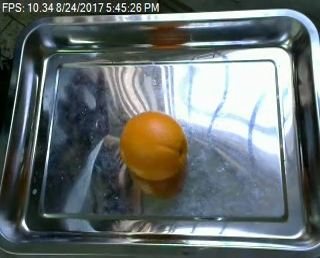Orange: (120, 111, 188, 180)
